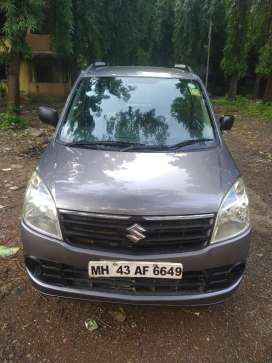license_plate: (87, 260, 186, 282)
